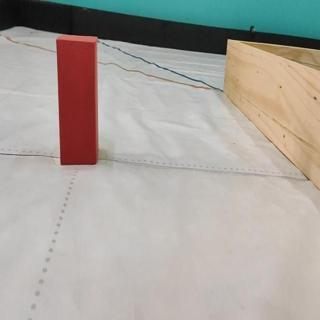redbox: (55, 34, 97, 165)
